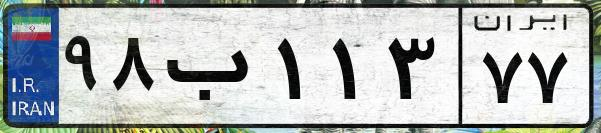1: (270, 28, 330, 110), (330, 28, 385, 110)
3: (385, 28, 445, 110)
7: (475, 38, 525, 113), (525, 38, 570, 115)
8: (110, 28, 158, 98)
9: (57, 26, 110, 100)
ب: (158, 20, 270, 120)
